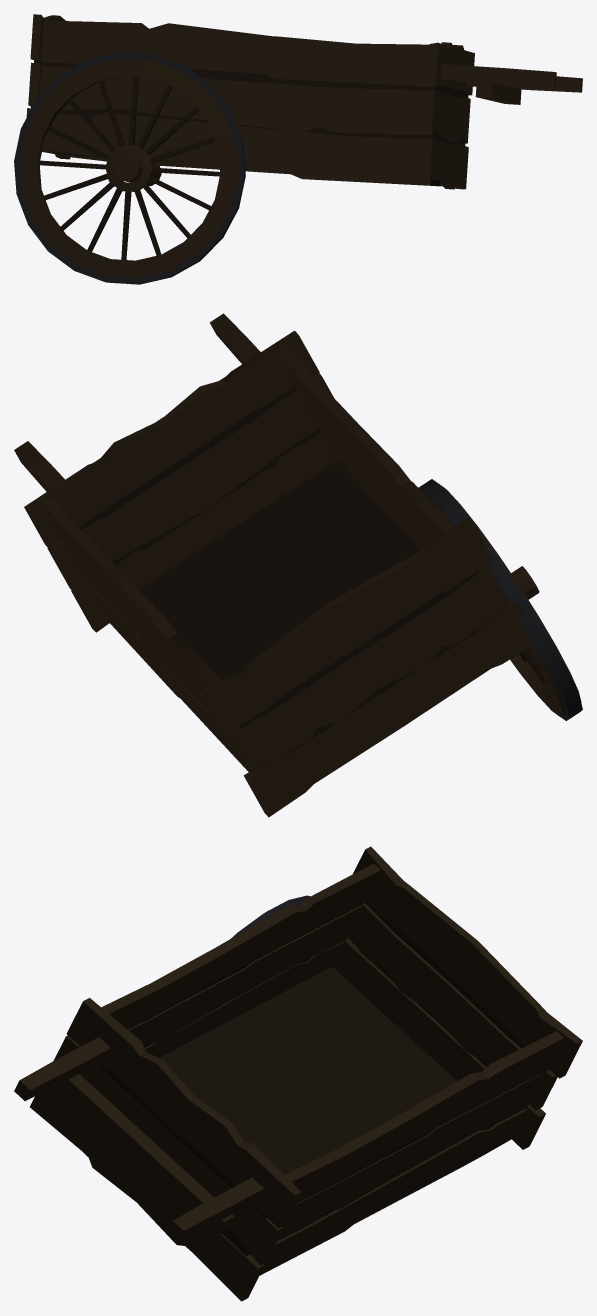
Rendered from Cart.obj.
3 views of the same model, one above another, from view 1: azimuth 30°, elevation 25°; view 2: azimuth 150°, elevation 25°; view 3: azimuth 270°, elevation 25° (orthographic). The views are drawn at different scales.
Parts seen in each view (by area): view 1: Cart_Cube.001; view 2: Cart_Cube.001; view 3: Cart_Cube.001.
Boxes of the visible parts, left/top/right/bottom form: Cart_Cube.001: left=14, top=14, right=582, bottom=284; Cart_Cube.001: left=14, top=313, right=582, bottom=817; Cart_Cube.001: left=14, top=846, right=582, bottom=1301.
Size of the model in its own units: 3.31 by 1.38 by 2.83.
